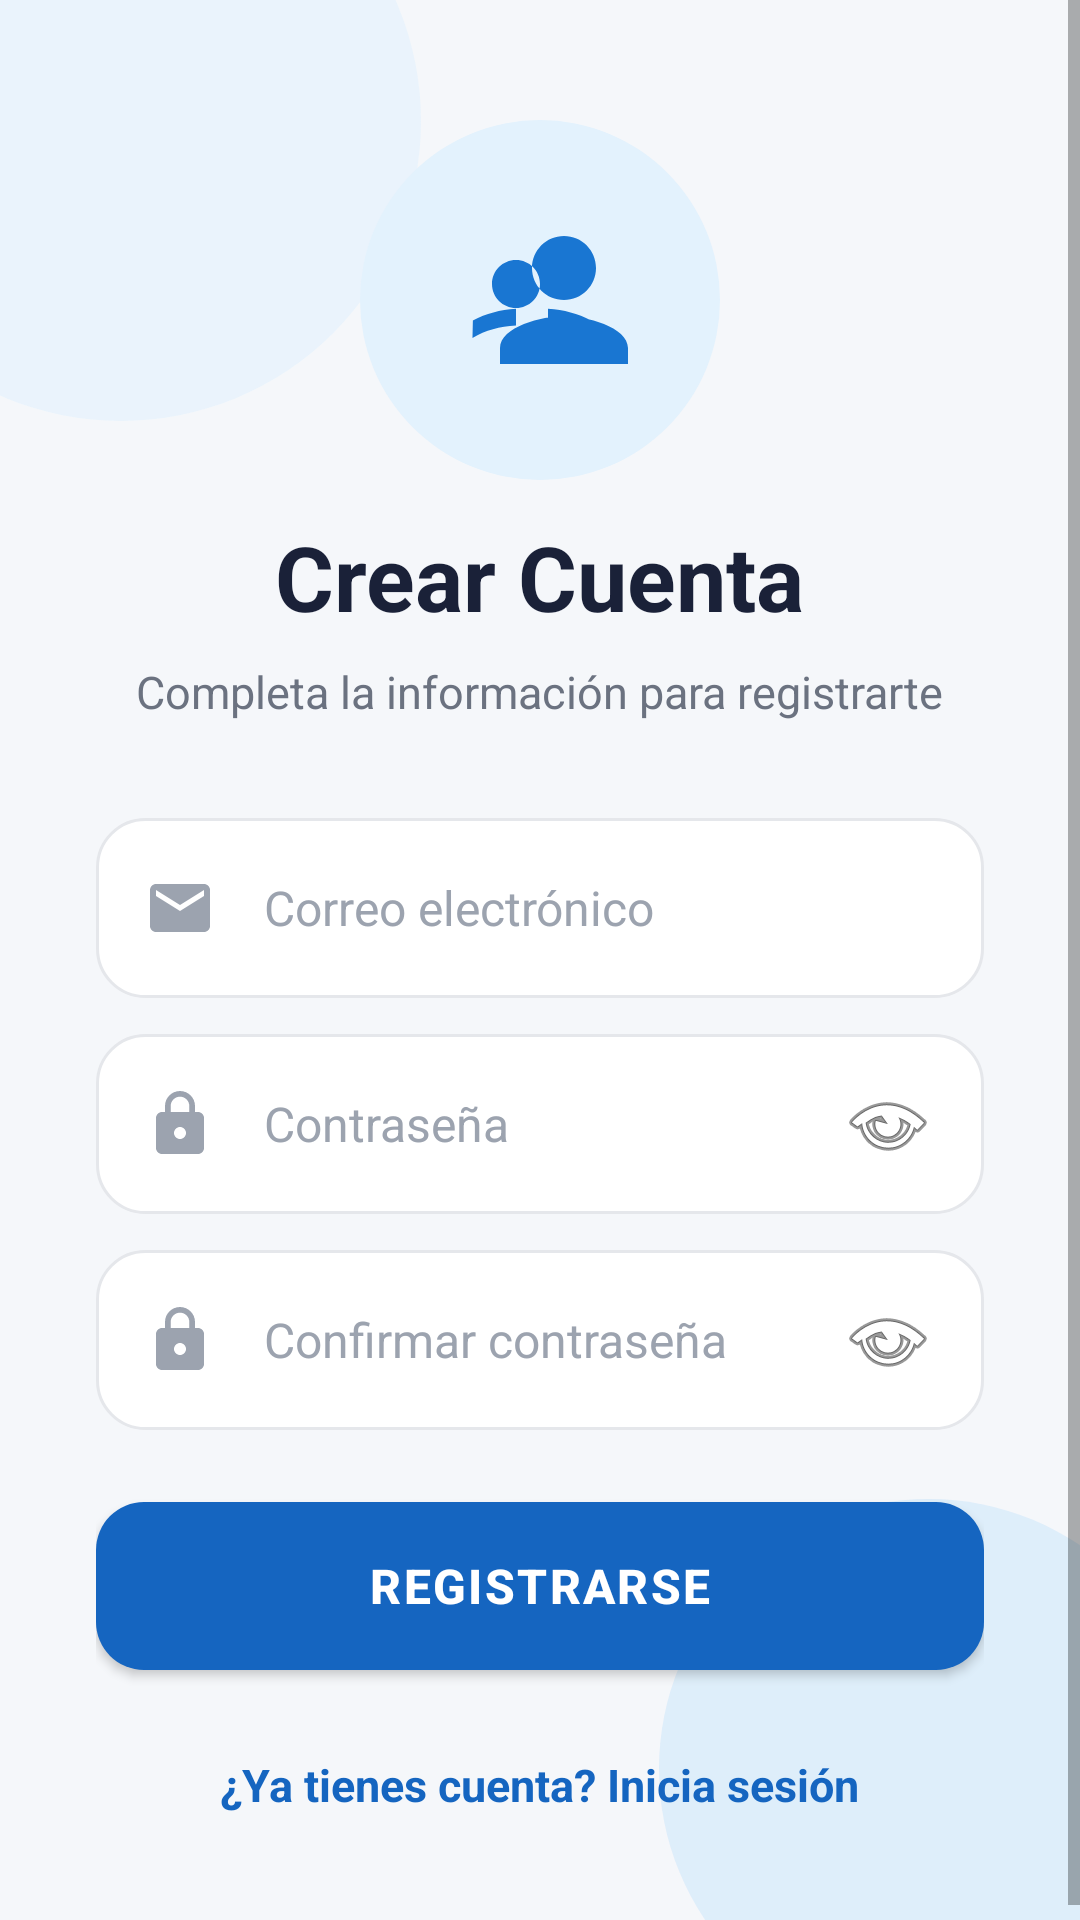

Point at icon controls on the screen. Image size 1080 × 1920, points as [x,y].
email: [180,908]
lock: [180,1122], [180,1338]
Toggle password: [888,1126], [888,1342]
